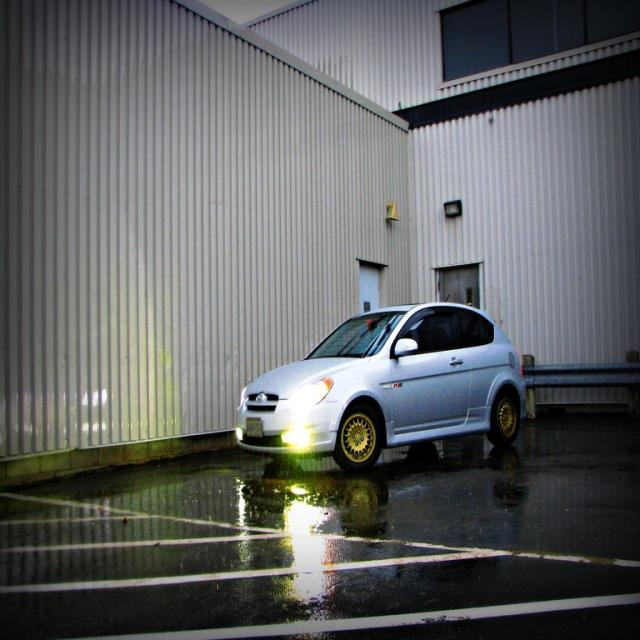car: (236, 294, 533, 475)
